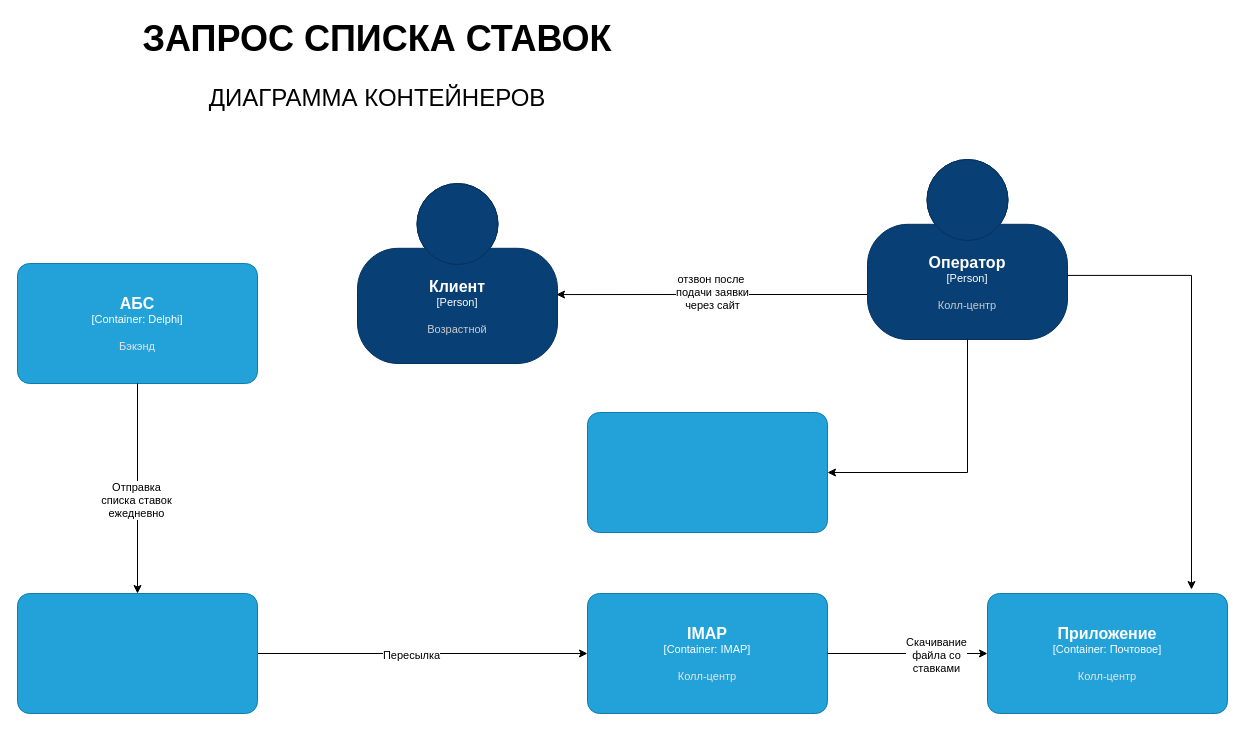
Image size: 1245x731. Some labels were removed from this diagram. The shapes that lost their labels are listed below. From the top down, each one's box as (x1, y1, x2, y2) in pixels, then its label:
(586, 412, 828, 532): Колл-центр [Container: React] Фронт-енд ПО обработки звонков
(16, 592, 258, 714): SMTP [Container: SMTP] Банк
